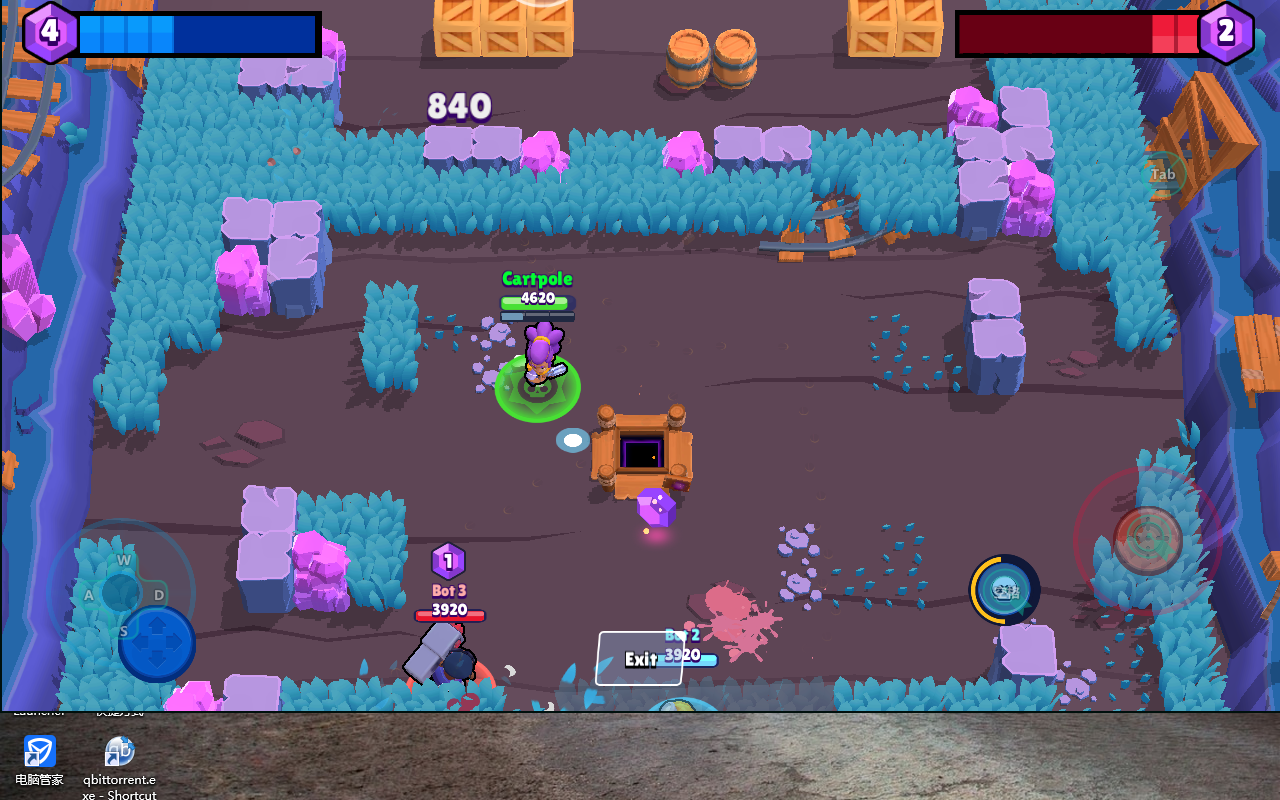current_player: (497, 355, 578, 422)
